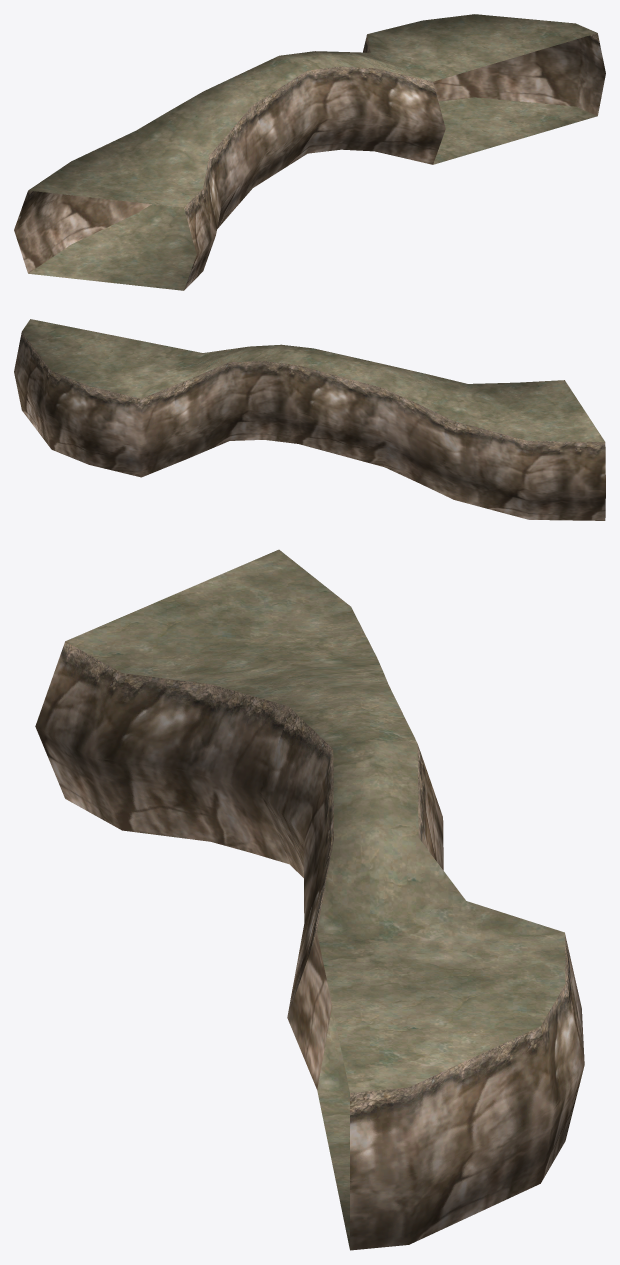
Rendered from OVERHILL_A_01_LINE04.fbx.
The picture shows the model from 3 angles, top to bottom: view 1: azimuth 30°, elevation 25°; view 2: azimuth 150°, elevation 25°; view 3: azimuth 270°, elevation 25°; orthographic projection. The views are drawn at different scales.
Visible parts, largest first — view 1: OVERHILL_A_01_LINE04; view 2: OVERHILL_A_01_LINE04; view 3: OVERHILL_A_01_LINE04.
Boxes of the visible parts, bbox=[...] form: OVERHILL_A_01_LINE04: bbox=[14, 14, 605, 290]; OVERHILL_A_01_LINE04: bbox=[14, 319, 605, 520]; OVERHILL_A_01_LINE04: bbox=[35, 549, 584, 1250].
Bounding box in the file's own units: 89454 × 17508 × 37206.
Materials: 3 (3 with a texture image).
